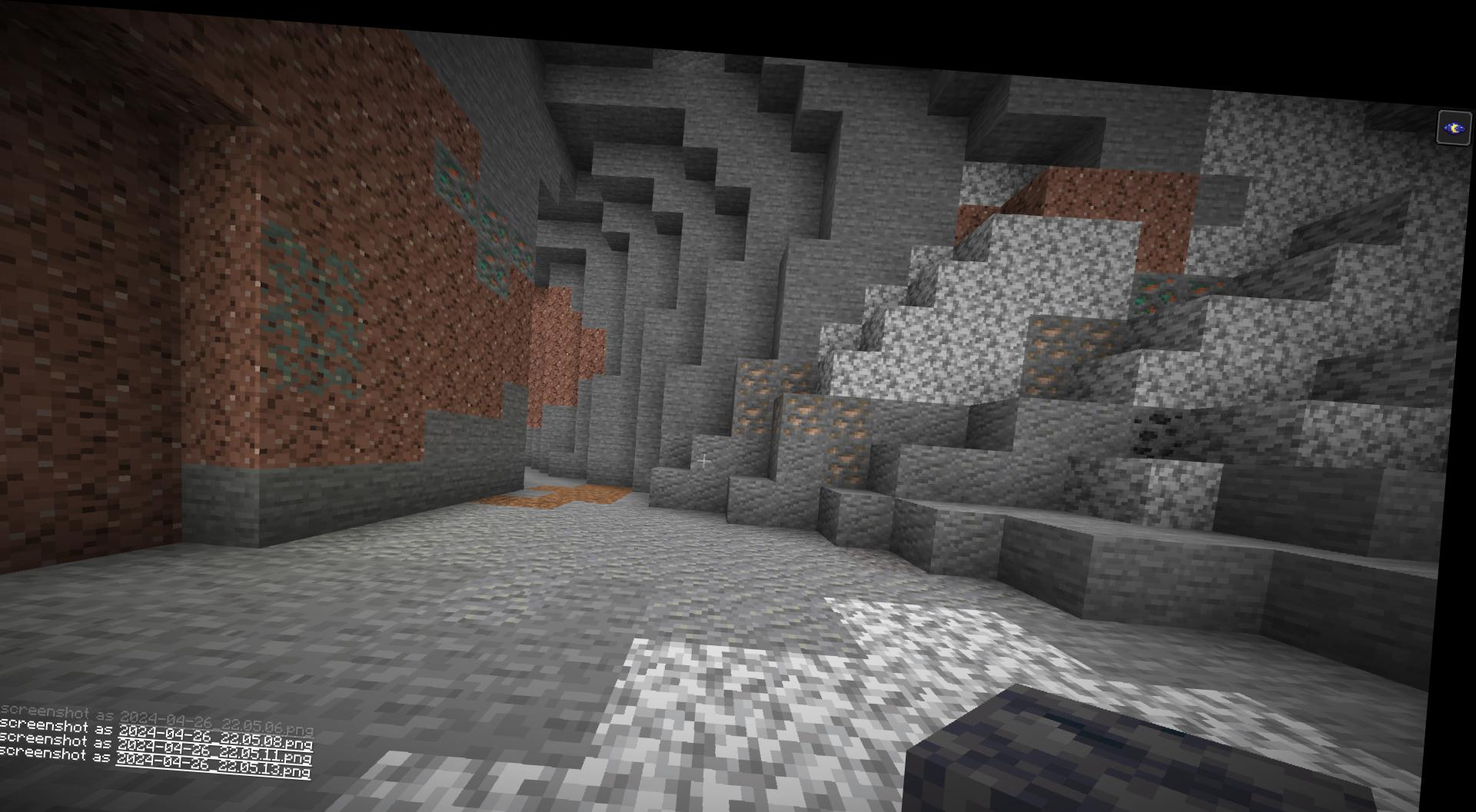iron ore: (1030, 295, 1085, 349), (1080, 295, 1135, 343), (829, 380, 882, 429), (829, 423, 878, 476), (781, 382, 833, 429), (1024, 346, 1077, 390), (737, 346, 787, 386), (739, 384, 779, 432), (780, 342, 823, 384)
